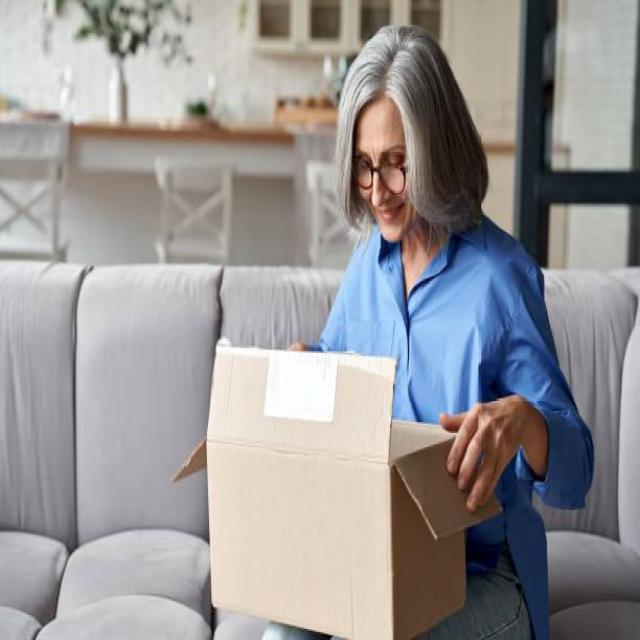box: (172, 343, 491, 640)
